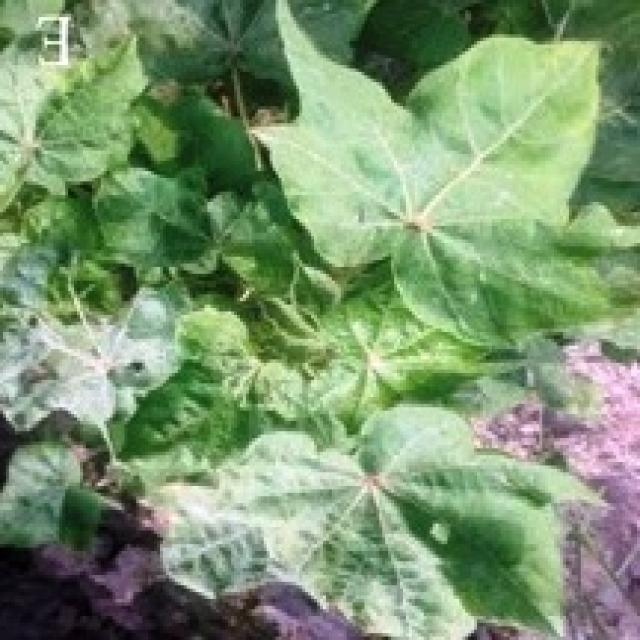Leaf Curl Virus: (175, 160, 464, 498)
